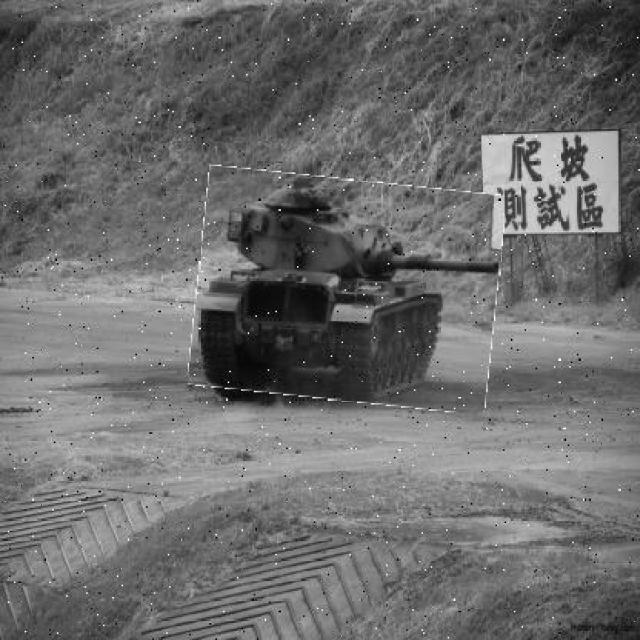Tank: (194, 173, 503, 409)
